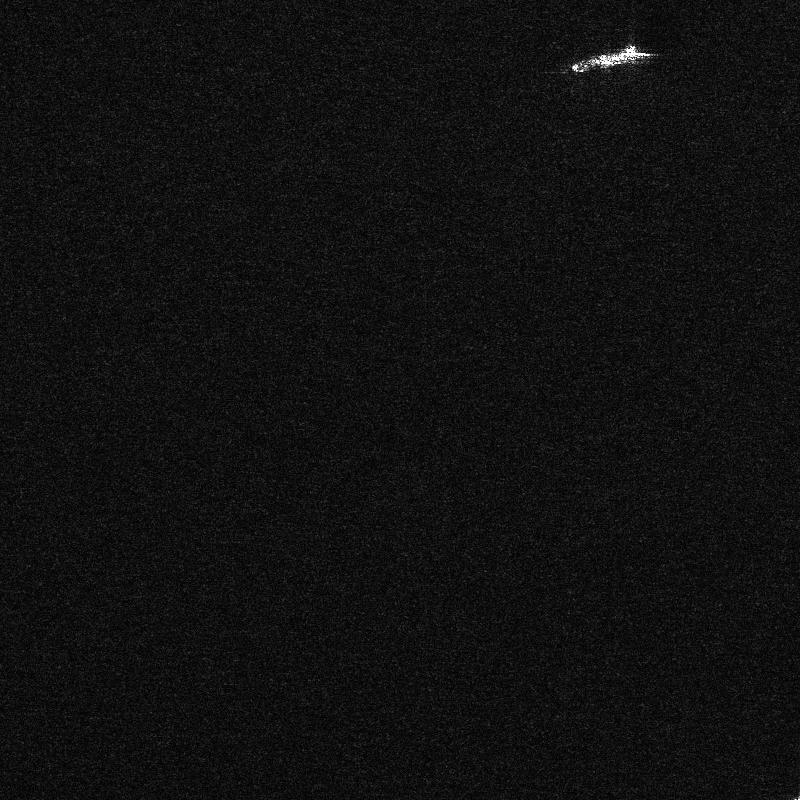ship: (571, 45, 656, 72), (793, 795, 799, 799)
